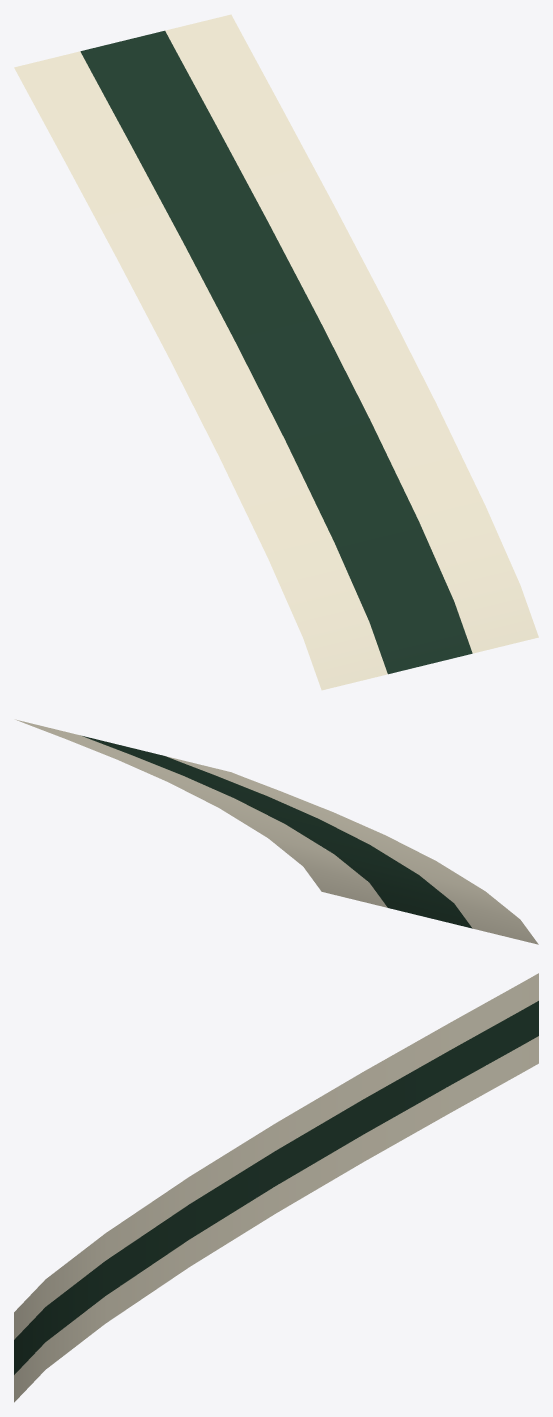
Rendered from stripe_damd_center__spoiler_damd_wing.glb.
3 renders of one model, top to bottom at view 1: azimuth 30°, elevation 25°; view 2: azimuth 150°, elevation 25°; view 3: azimuth 270°, elevation 25°, orthographic. The views are drawn at different scales.
Parts seen in each view (by area): view 1: bandwing-16, bandwing16, bandwing-41; view 2: bandwing-16, bandwing16, bandwing-41; view 3: bandwing-16, bandwing16, bandwing-41.
Part boxes in pixels (x1,y1,x2,y2): bandwing-16: [80, 30, 472, 674]; bandwing16: [165, 14, 538, 653]; bandwing-41: [14, 51, 387, 690]; bandwing-16: [82, 736, 472, 928]; bandwing16: [15, 719, 387, 907]; bandwing-41: [166, 756, 538, 944]; bandwing-16: [14, 1001, 538, 1374]; bandwing16: [14, 1036, 538, 1402]; bandwing-41: [14, 973, 538, 1339].
Bounding box in the file's own units: 0.082 × 0.1434 × 0.2011.
